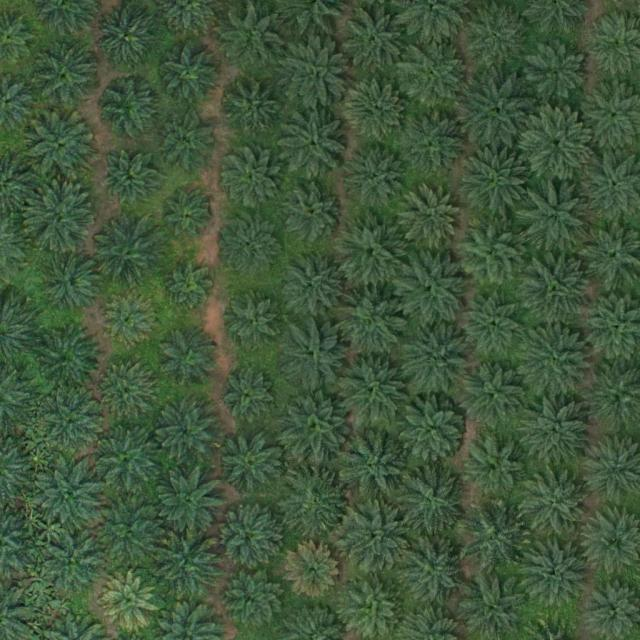Grass: (35, 389, 106, 460), (37, 460, 107, 531), (39, 530, 102, 593)
Healthy: (521, 179, 592, 250), (464, 77, 535, 148), (32, 323, 103, 394), (154, 467, 225, 538), (277, 250, 348, 321), (281, 321, 352, 392), (281, 392, 352, 463), (337, 355, 408, 426), (456, 218, 527, 289), (523, 109, 593, 180), (461, 3, 532, 73), (460, 147, 530, 218), (399, 110, 469, 181), (278, 37, 348, 108), (33, 39, 103, 110), (23, 181, 93, 252), (96, 221, 166, 292), (93, 423, 163, 494), (97, 501, 167, 572), (337, 289, 407, 360), (339, 434, 409, 505), (340, 503, 411, 573), (399, 254, 469, 325), (402, 324, 472, 395), (399, 394, 469, 465), (459, 502, 529, 573), (522, 254, 592, 325), (522, 328, 592, 399), (519, 398, 590, 468), (519, 536, 589, 607), (398, 536, 468, 607), (401, 40, 471, 110), (339, 4, 409, 74), (278, 110, 348, 180), (277, 180, 347, 250), (29, 112, 99, 182), (282, 469, 352, 539), (335, 217, 405, 287), (396, 465, 466, 535), (461, 359, 531, 429), (524, 472, 594, 542), (153, 528, 223, 598), (97, 75, 160, 138), (40, 253, 103, 316), (159, 325, 222, 388), (222, 294, 285, 357), (401, 185, 463, 248), (344, 80, 406, 143), (347, 146, 409, 209), (219, 7, 281, 70), (220, 78, 282, 141), (220, 150, 283, 212), (220, 215, 283, 277), (158, 44, 220, 107), (94, 4, 156, 67), (156, 403, 218, 466), (218, 433, 280, 496), (218, 505, 280, 568), (466, 436, 528, 499), (344, 577, 406, 640), (223, 568, 285, 631), (528, 44, 590, 106), (157, 110, 219, 172), (463, 297, 525, 359), (102, 151, 157, 206), (101, 296, 156, 351), (164, 258, 219, 313), (221, 368, 276, 423), (101, 361, 155, 416)
Small: (164, 192, 211, 240)
Yellow: (286, 544, 341, 599), (102, 572, 157, 627)
